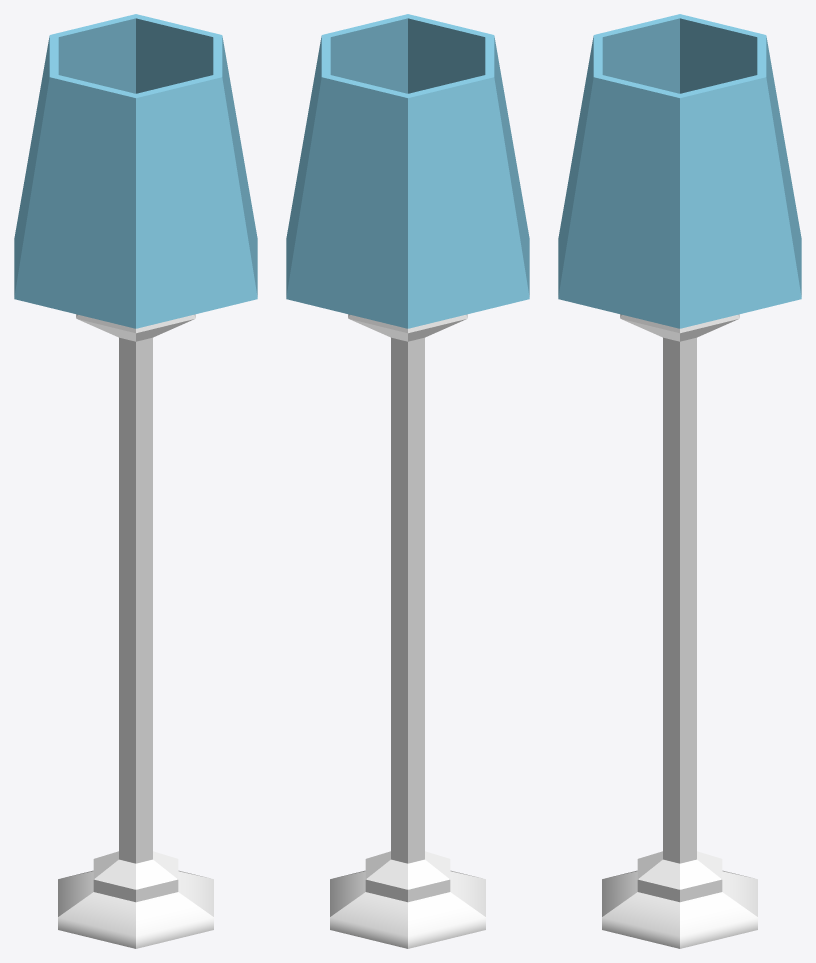
Rendered from lampTall.gltf.
The picture shows the model from 3 angles, left to right: view 1: azimuth 30°, elevation 25°; view 2: azimuth 150°, elevation 25°; view 3: azimuth 270°, elevation 25°; orthographic projection.
Parts seen in each view (by area): view 1: lampTall; view 2: lampTall; view 3: lampTall.
Part boxes in pixels (box(x1,y1,x2,y2)): lampTall: box(14, 14, 257, 948); lampTall: box(286, 14, 529, 948); lampTall: box(558, 14, 801, 948).
Bounding box in the file's own units: 4.85 × 16.26 × 4.2.
Materials: 1 (1 with a texture image).
